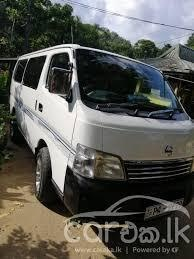van: (9, 39, 194, 219)
